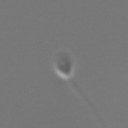normal: (69, 76, 106, 128)
